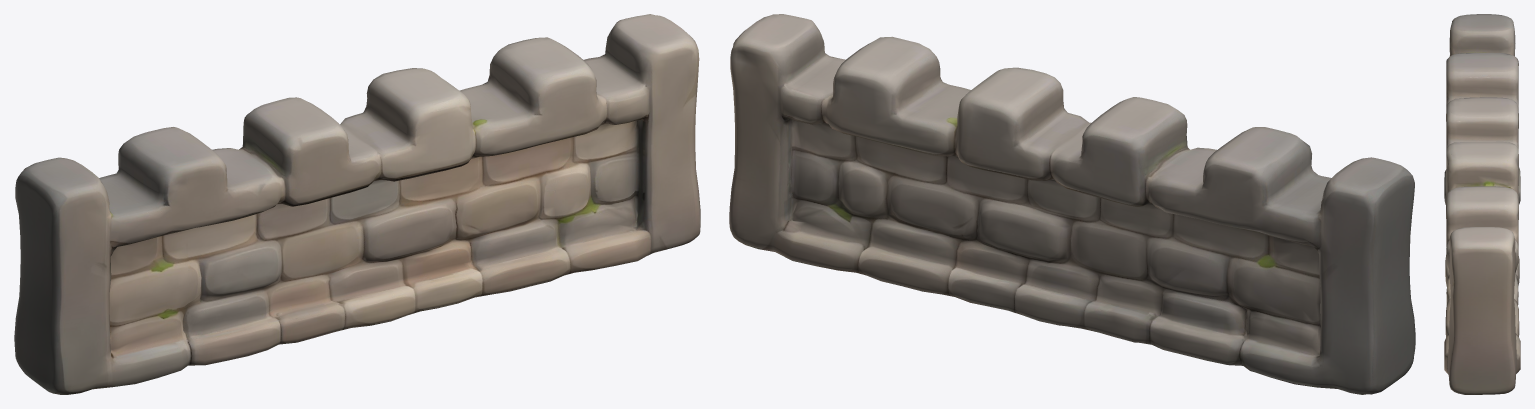
File: wall.glb
The picture shows the model from 3 angles, left to right: view 1: azimuth 30°, elevation 25°; view 2: azimuth 150°, elevation 25°; view 3: azimuth 270°, elevation 25°; orthographic projection. The views are drawn at different scales.
Parts seen in each view (by area): view 1: wall; view 2: wall; view 3: wall.
Boxes of the visible parts, <box> form: wall: <box>14,14,700,394</box>; wall: <box>729,14,1415,394</box>; wall: <box>1444,14,1520,394</box>.
Size of the model in its own units: 0.9988 by 0.3033 by 0.1384.
Materials: 1 (1 with a texture image).
